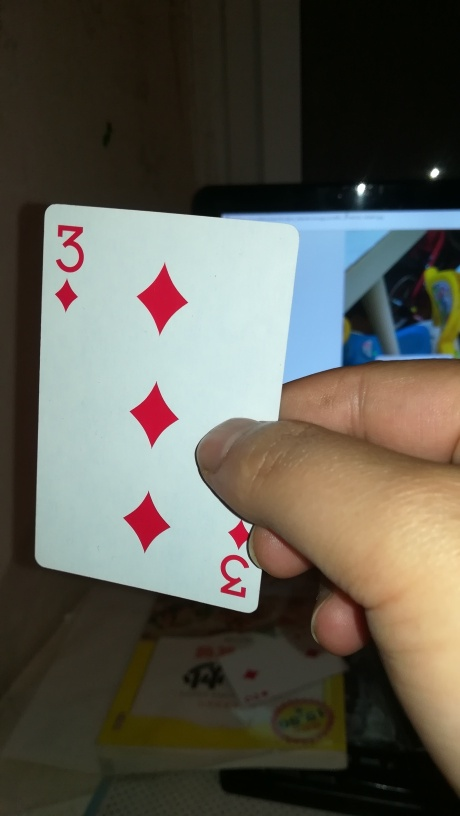fk 3: (34, 199, 300, 618)
